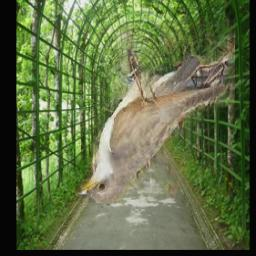Cuckoo: (77, 19, 235, 203)
